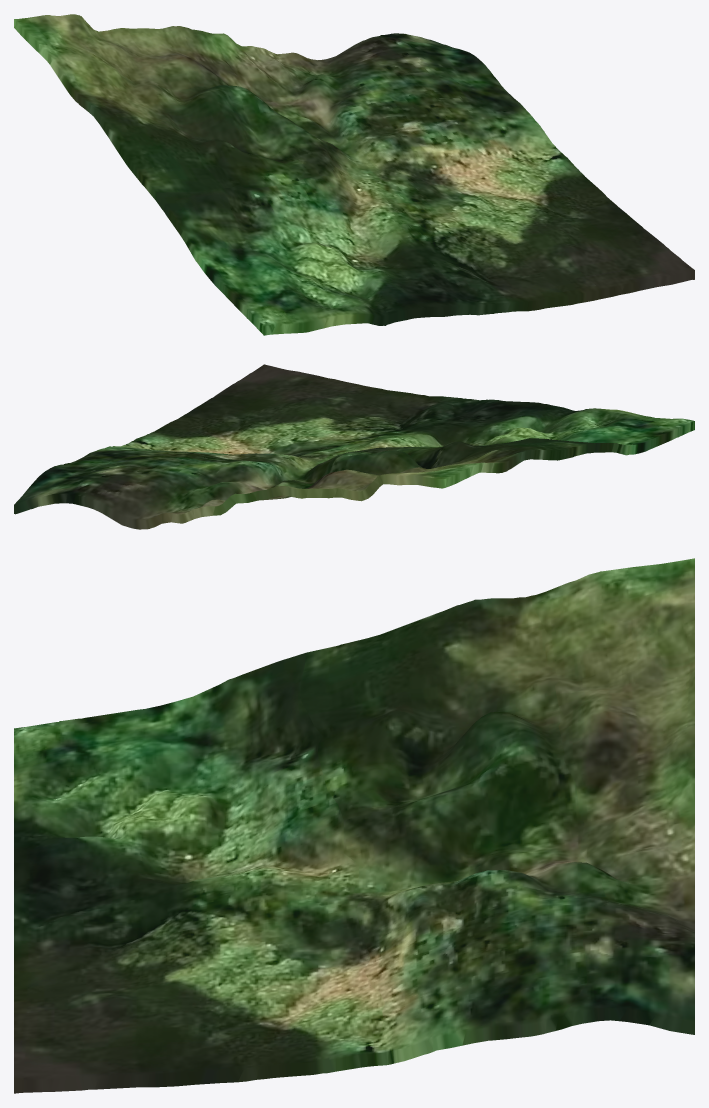
Rendered from z20-167563-405176-h0-yup-uvflip-v3-world.glb.
The picture shows the model from 3 angles, top to bottom: view 1: azimuth 30°, elevation 25°; view 2: azimuth 150°, elevation 25°; view 3: azimuth 270°, elevation 25°; orthographic projection. The views are drawn at different scales.
Bounding box in the file's own units: 30.16 × 12.24 × 30.32.
Materials: 1 (1 with a texture image).
